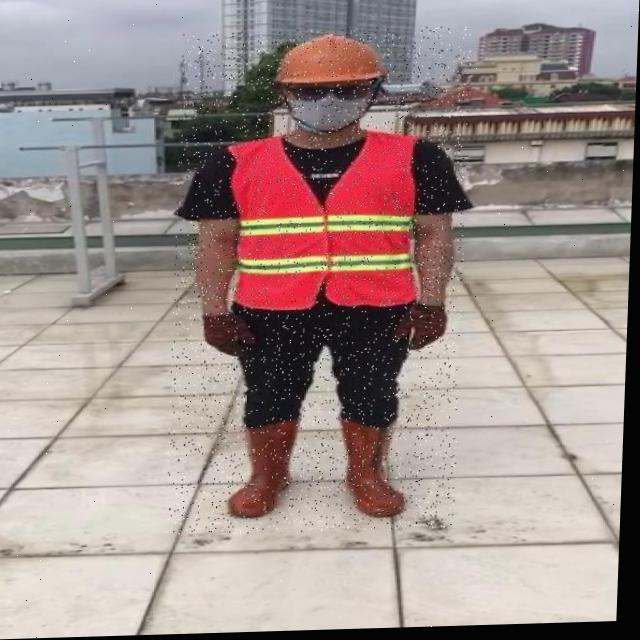Gloves: (394, 303, 449, 354), (204, 312, 259, 358)
Helmet: (272, 34, 389, 137)
Safety-Boot: (339, 417, 412, 520), (229, 419, 301, 519)
Safety-Vest: (221, 131, 425, 316)
